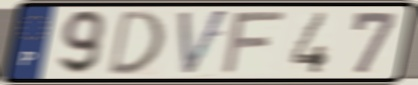4: (287, 10, 330, 76)
7: (349, 10, 399, 76)
9: (55, 9, 108, 77)
D: (105, 8, 168, 78)
F: (218, 9, 290, 77)
V: (176, 7, 232, 79)
